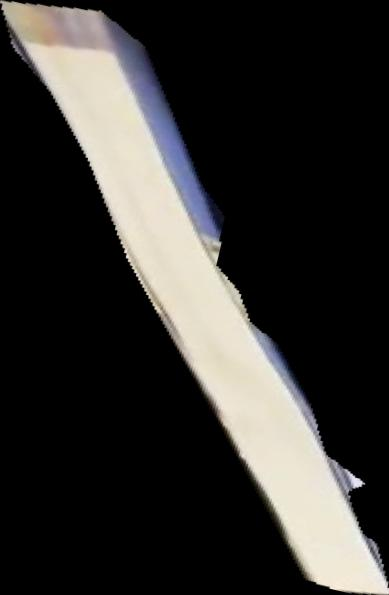backward: (1, 1, 389, 595)
